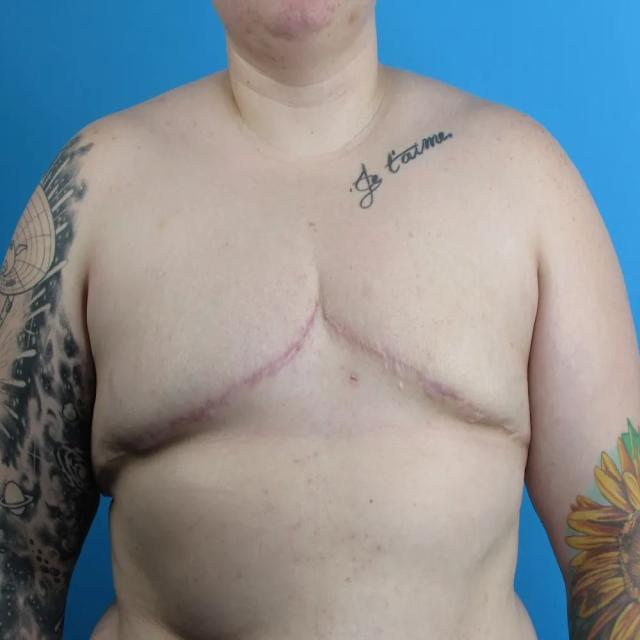Seno herido: (80, 228, 315, 503), (319, 228, 546, 503)
